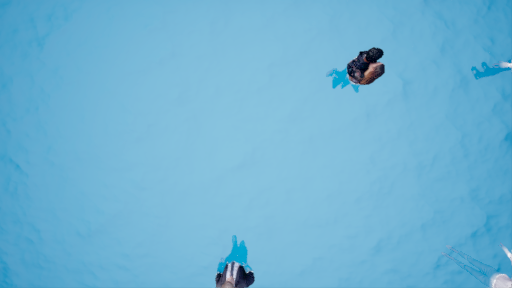person: (325, 44, 386, 99), (210, 236, 257, 288), (471, 52, 512, 82)
